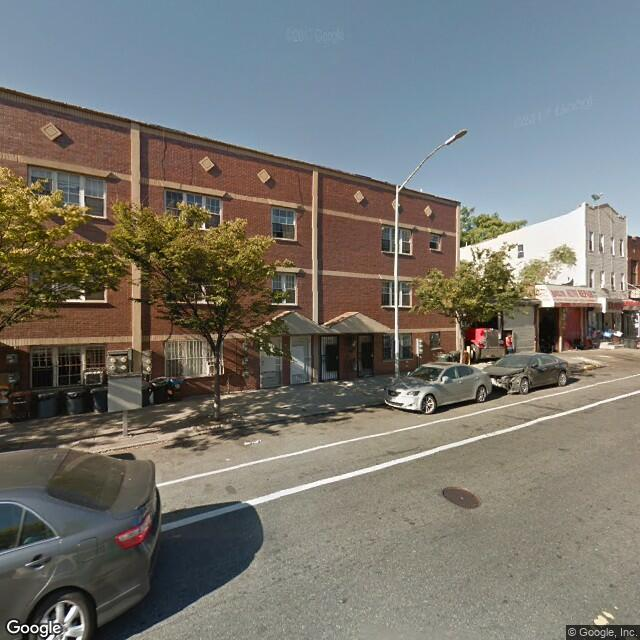litter: (242, 440, 262, 445), (225, 457, 231, 458)
